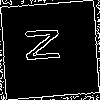N: (24, 24, 69, 64)
